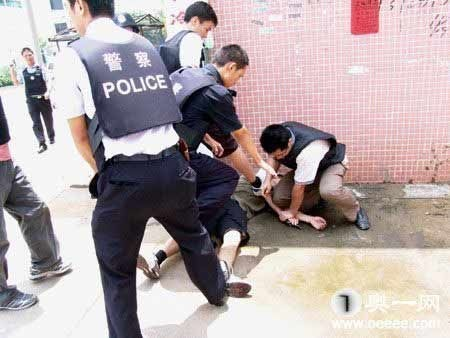falling: (142, 150, 310, 297)
